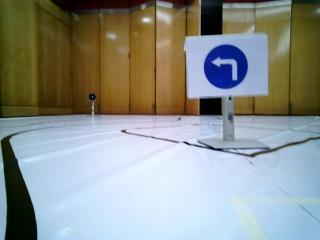left: (188, 36, 265, 99)
